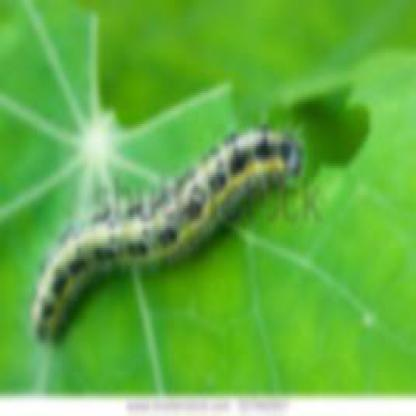pieris: (28, 128, 303, 347)
